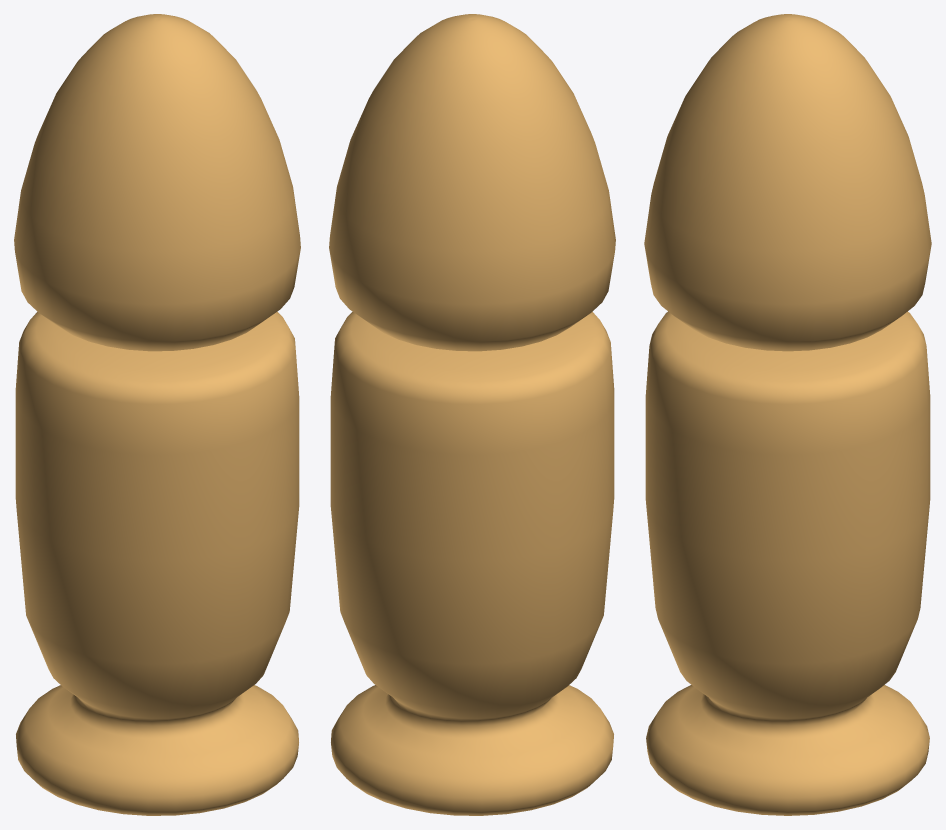
File: Bullet.fbx
3 renders of one model, left to right at view 1: azimuth 30°, elevation 25°; view 2: azimuth 150°, elevation 25°; view 3: azimuth 270°, elevation 25°, orthographic.
Parts seen in each view (by area): view 1: Bullet; view 2: Bullet; view 3: Bullet.
Part boxes in pixels (x1,y1,x2,y2): Bullet: (14,14,300,815); Bullet: (329,14,615,815); Bullet: (644,14,931,815).
Bounding box in the file's own units: 14.67 × 42.25 × 14.67.
